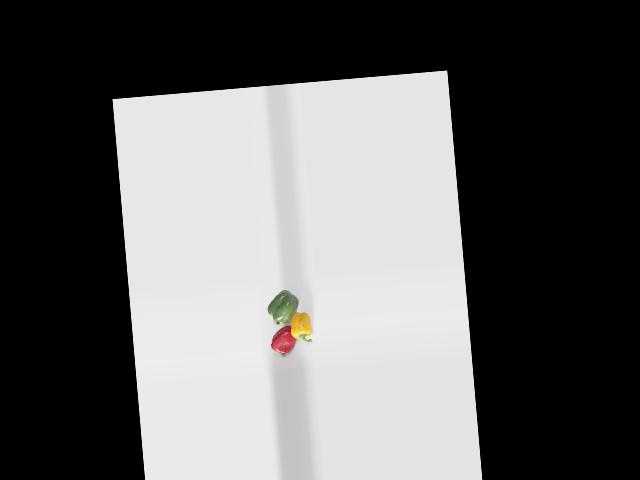bell_pepper: (285, 310, 315, 344)
